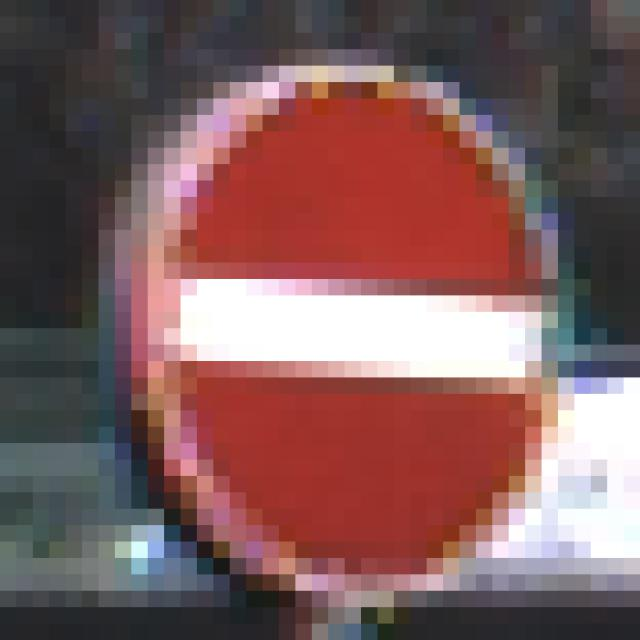No Entry: (99, 83, 559, 559)
